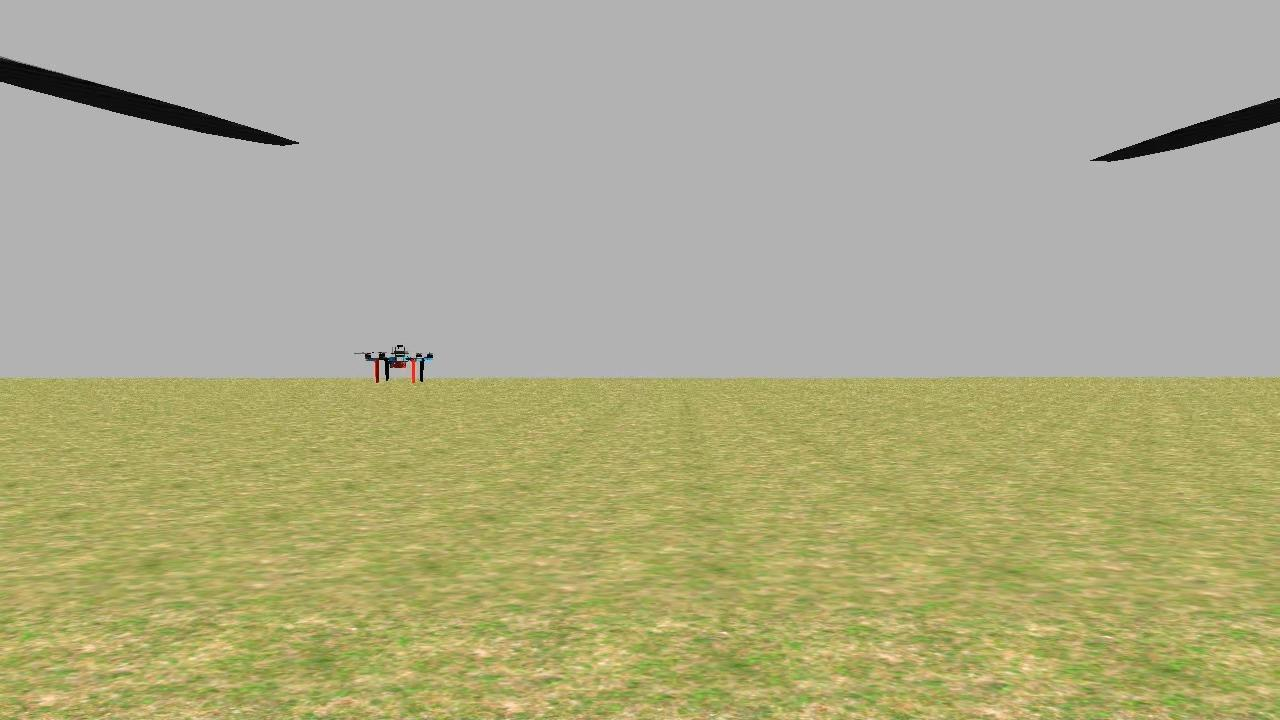UAV: (362, 339, 440, 387)
